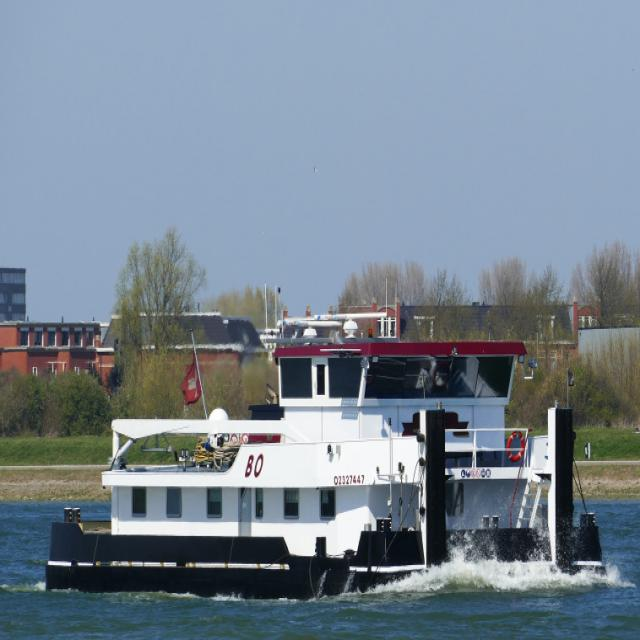tugboat: (42, 292, 617, 613)
